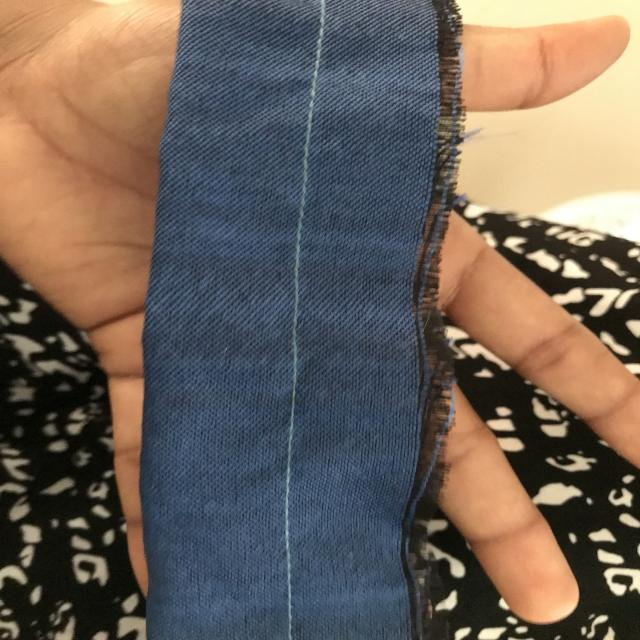good: (284, 53, 341, 149)
